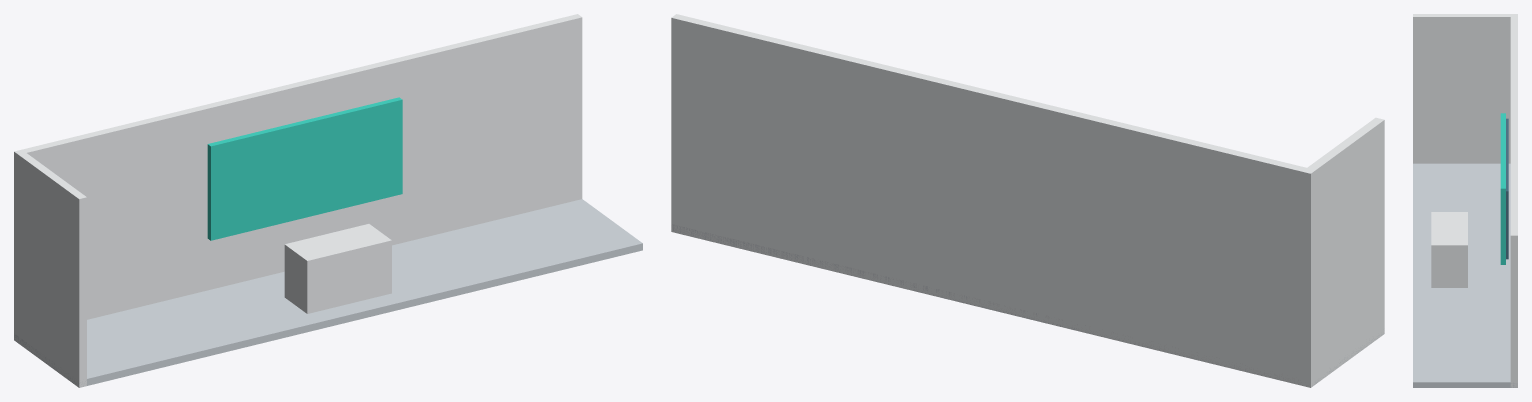
The picture shows the model from 3 angles, left to right: view 1: azimuth 30°, elevation 25°; view 2: azimuth 150°, elevation 25°; view 3: azimuth 270°, elevation 25°; orthographic projection. The views are drawn at different scales.
Visible parts, largest first — view 1: Exhibition Booth Concept; view 2: Exhibition Booth Concept; view 3: Exhibition Booth Concept.
Boxes of the visible parts, <box> form: Exhibition Booth Concept: <box>14,14,642,387</box>; Exhibition Booth Concept: <box>671,14,1384,387</box>; Exhibition Booth Concept: <box>1413,14,1517,387</box>.
Bounding box in the file's own units: 10 × 3.2 × 2.
